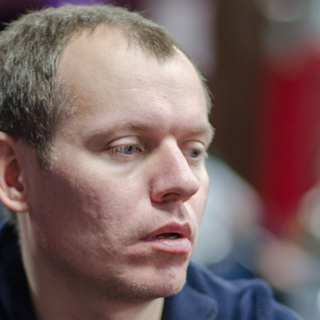eye: (102, 138, 152, 162), (180, 141, 206, 162)
